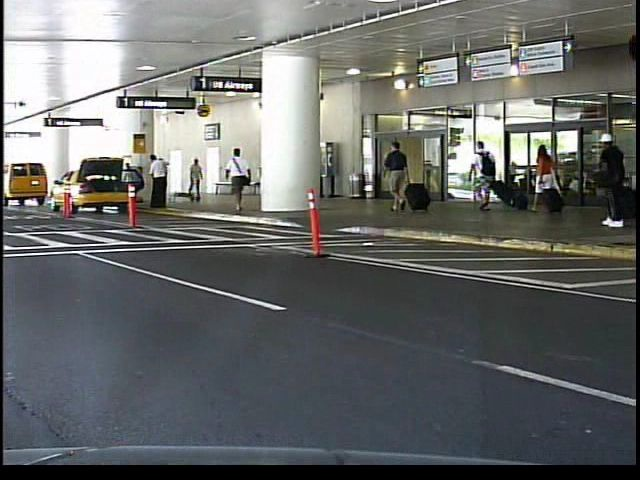person: (593, 125, 634, 237), (530, 134, 568, 225), (466, 135, 503, 215), (225, 141, 257, 214), (383, 136, 411, 216), (186, 157, 208, 204)
